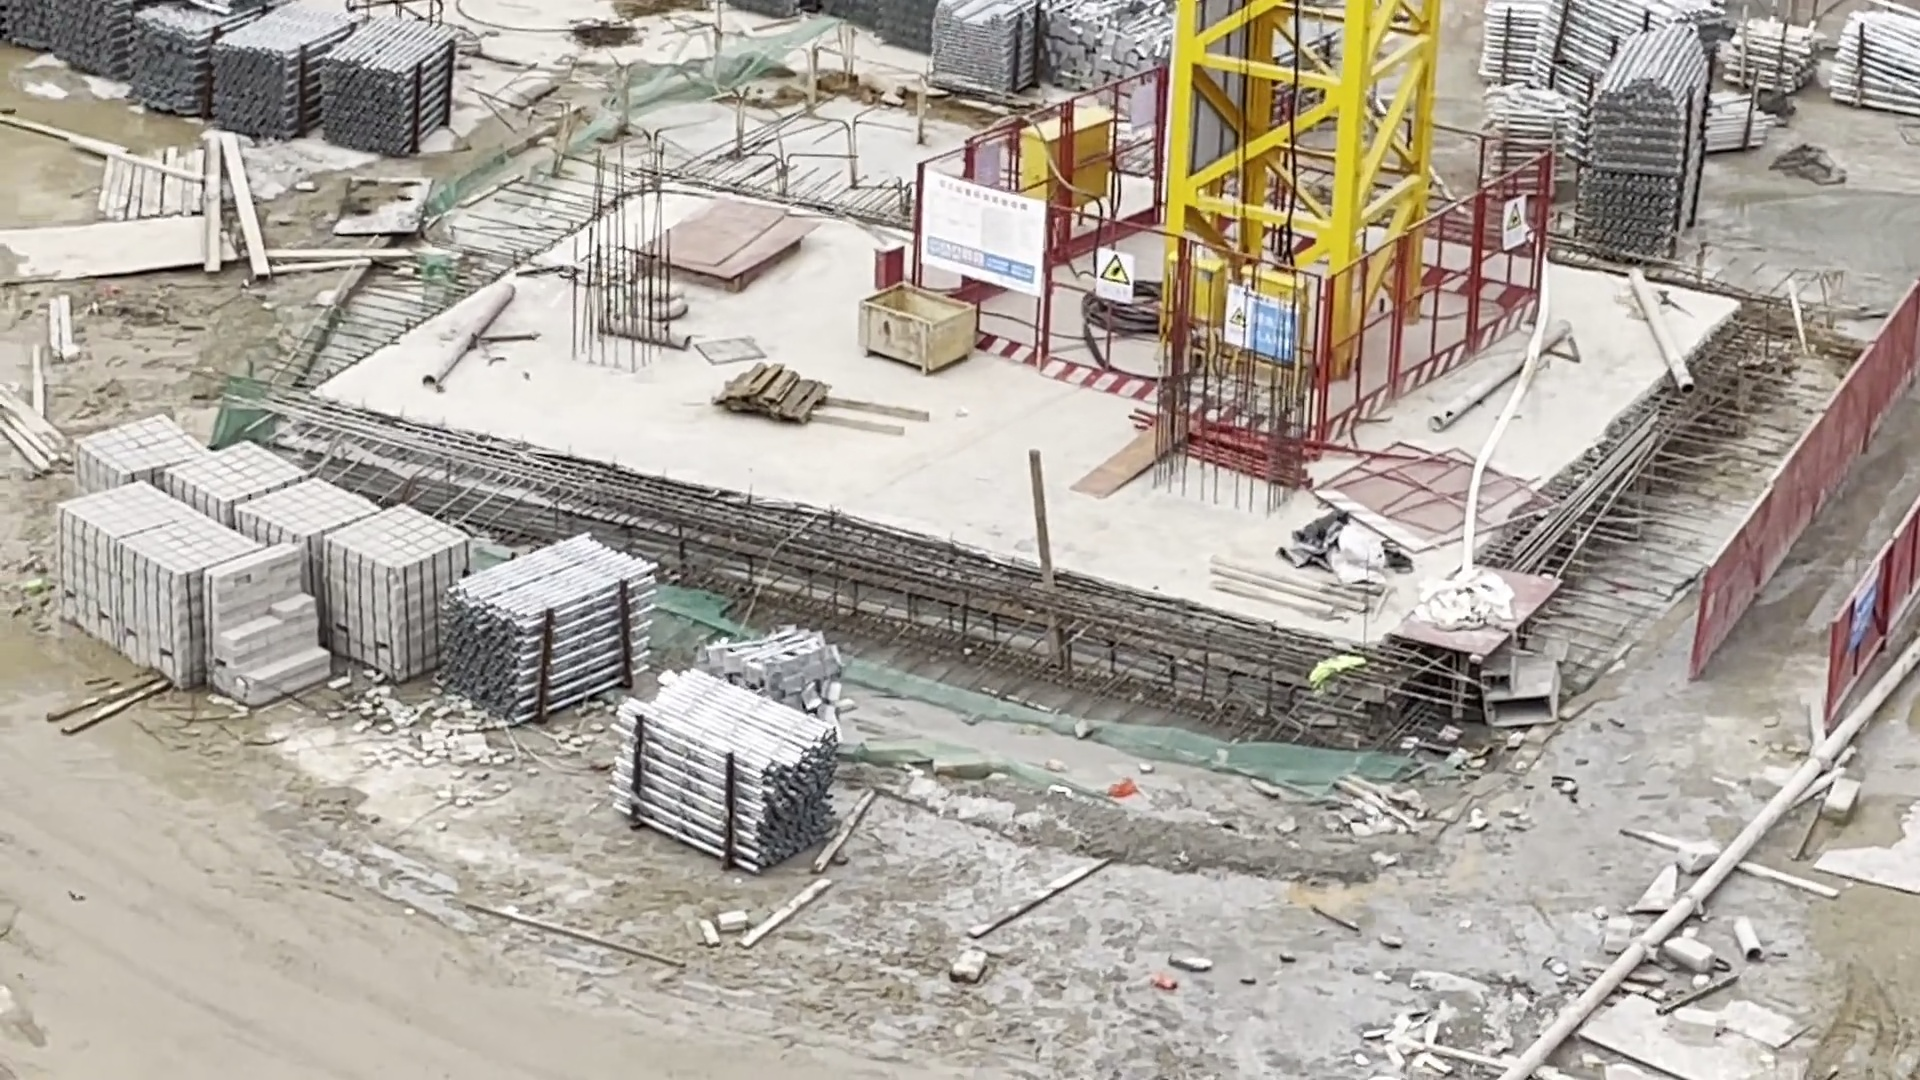brick: (44, 409, 483, 728)
ebox: (1138, 222, 1311, 353), (1004, 102, 1127, 227)
fence: (899, 170, 1323, 458), (1309, 160, 1544, 443), (1808, 270, 1920, 724), (922, 73, 1167, 265), (1655, 439, 1818, 705)
hopper: (844, 280, 992, 381)
scaffold: (1472, 4, 1920, 265), (3, 1, 475, 173), (607, 666, 876, 884), (717, 1, 1180, 111), (435, 535, 667, 724)
slogan: (906, 169, 1058, 307), (1207, 277, 1307, 367), (1844, 578, 1899, 665), (1085, 237, 1141, 315), (1480, 196, 1534, 270)
